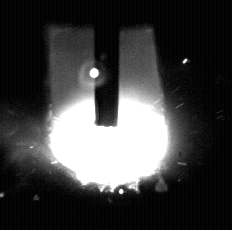arame: (96, 0, 120, 128)
poca: (50, 0, 169, 230)
